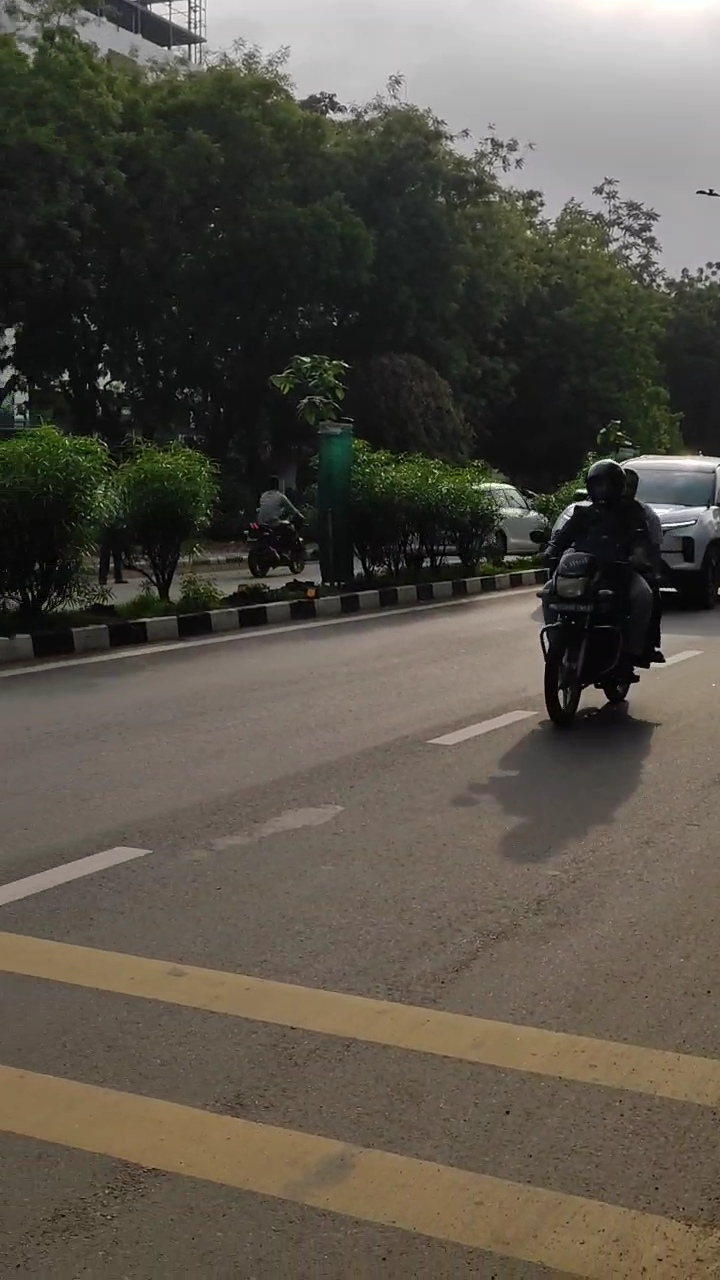BikeWithRider: (524, 451, 679, 738), (239, 472, 313, 581)
Helmet: (579, 453, 638, 511)
